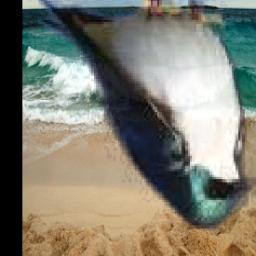Swallow: (38, 0, 256, 233)
